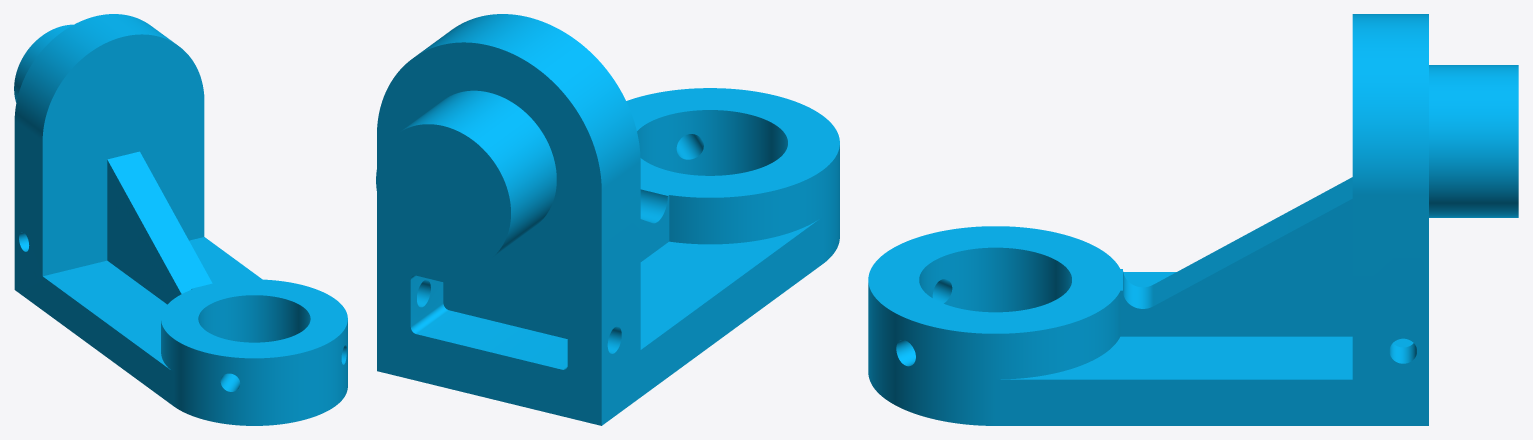
The picture shows the model from 3 angles, left to right: view 1: azimuth 30°, elevation 25°; view 2: azimuth 150°, elevation 25°; view 3: azimuth 270°, elevation 25°; orthographic projection. The views are drawn at different scales.
Visible parts, largest first — view 1: Pad.6; view 2: Pad.6; view 3: Pad.6.
Boxes of the visible parts, x1=… form: Pad.6: x1=14, y1=14, x2=347, y2=425; Pad.6: x1=376, y1=14, x2=839, y2=425; Pad.6: x1=868, y1=14, x2=1518, y2=425.
Size of the model in its own units: 0.318 by 0.477 by 0.812.
